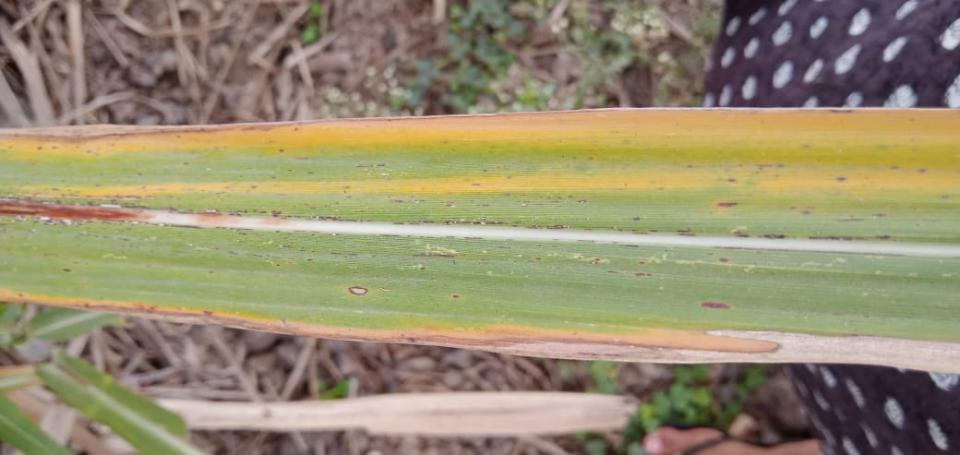RedRot: (0, 199, 154, 222), (195, 214, 287, 225)
Rust: (115, 204, 902, 243)
Yellow: (0, 288, 959, 376), (0, 106, 959, 163), (0, 169, 959, 198)
